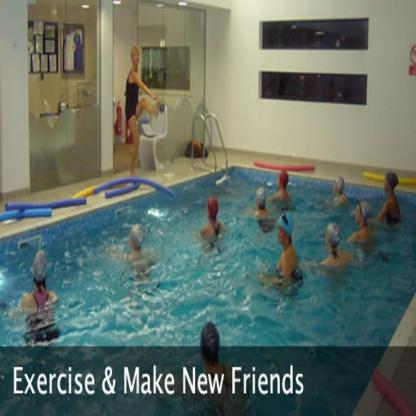face: (278, 225, 286, 245), (356, 205, 362, 224), (133, 53, 140, 65), (384, 177, 389, 191), (277, 175, 282, 187)
